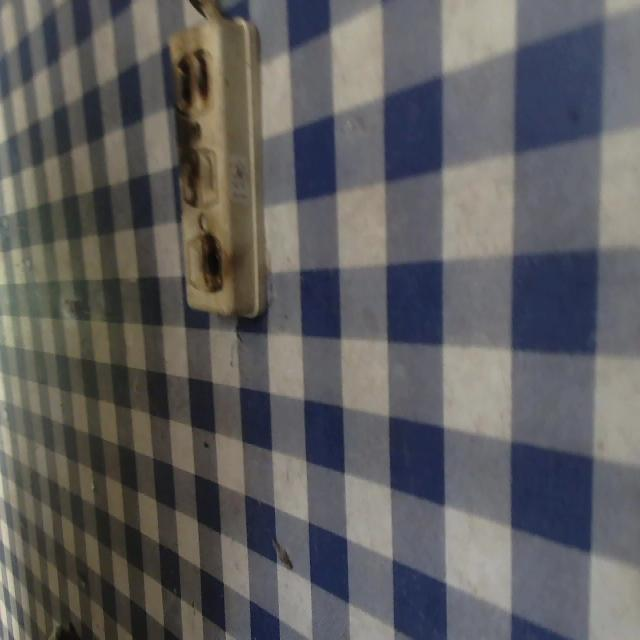-: (173, 49, 213, 111), (198, 232, 226, 292), (176, 149, 204, 207)
